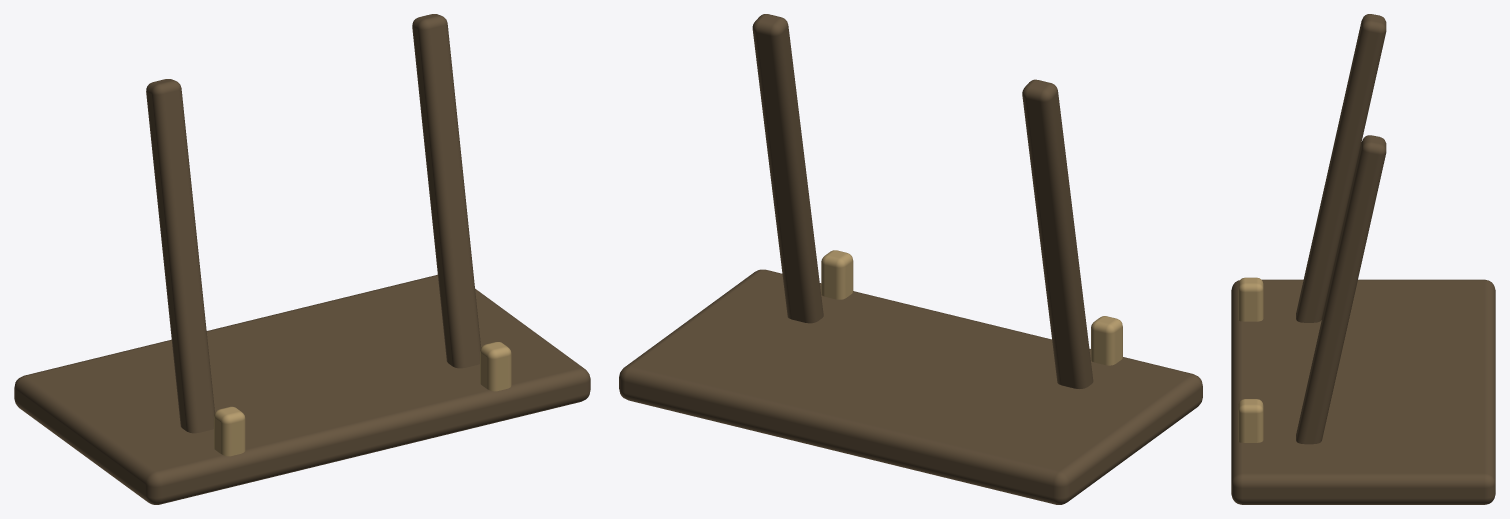
The model's file is 07_Reader_Cradle.glb.
3 views of the same model, side by side, from view 1: azimuth 30°, elevation 25°; view 2: azimuth 150°, elevation 25°; view 3: azimuth 270°, elevation 25° (orthographic). The views are drawn at different scales.
Visible parts, largest first — view 1: Walnut foot, Back rest (×2), Front catch (×2); view 2: Walnut foot, Back rest (×2), Front catch (×2); view 3: Walnut foot, Back rest (×2), Front catch (×2).
Boxes of the visible parts, bbox=[...] form: Walnut foot: bbox=[14, 274, 590, 504]; Back rest (×2): bbox=[146, 14, 481, 433]; Front catch (×2): bbox=[214, 342, 511, 456]; Walnut foot: bbox=[619, 269, 1202, 504]; Back rest (×2): bbox=[752, 14, 1093, 388]; Front catch (×2): bbox=[821, 250, 1122, 365]; Walnut foot: bbox=[1231, 279, 1495, 504]; Back rest (×2): bbox=[1296, 14, 1386, 444]; Front catch (×2): bbox=[1238, 277, 1263, 442].
Size of the model in its own units: 0.17 by 0.1291 by 0.094.
